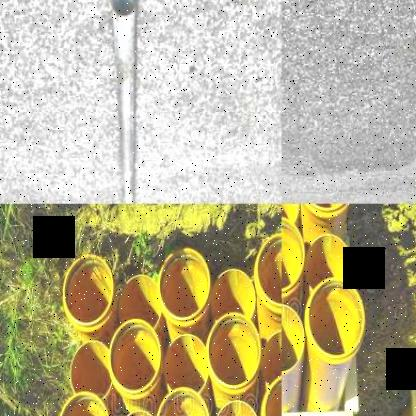pipe: (307, 277, 365, 358), (206, 312, 261, 390), (108, 318, 162, 393), (158, 248, 211, 319), (63, 254, 114, 325), (305, 234, 352, 291), (164, 334, 209, 393), (70, 340, 112, 399), (210, 269, 256, 321), (119, 275, 162, 329), (256, 233, 282, 306), (282, 216, 304, 294), (155, 387, 210, 416), (282, 304, 304, 372), (58, 391, 111, 416), (261, 330, 282, 386), (263, 373, 282, 416), (212, 400, 260, 416), (112, 0, 134, 16), (116, 408, 158, 416)
